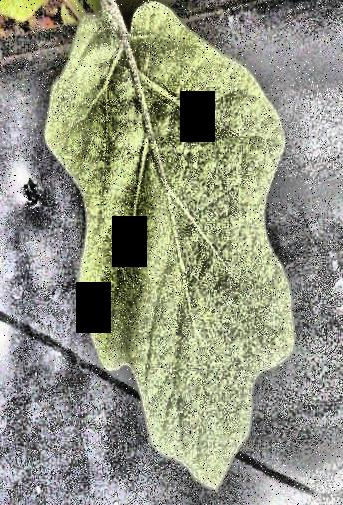HEALTHY: (0, 1, 343, 505)
